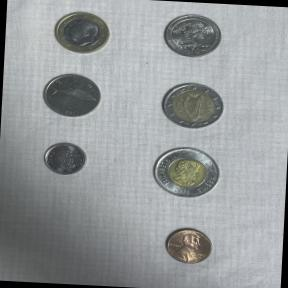1 Euro-B: (50, 7, 115, 58)
2 Euro-B: (157, 78, 231, 136)
Canada-10cent-B: (38, 138, 91, 180)
Canada-2Dollar-B: (145, 141, 227, 202)
Croatia-2Kune-B: (37, 70, 106, 124)
US-1cent-B: (157, 222, 218, 270)
US-25cent-B: (158, 10, 226, 62)
